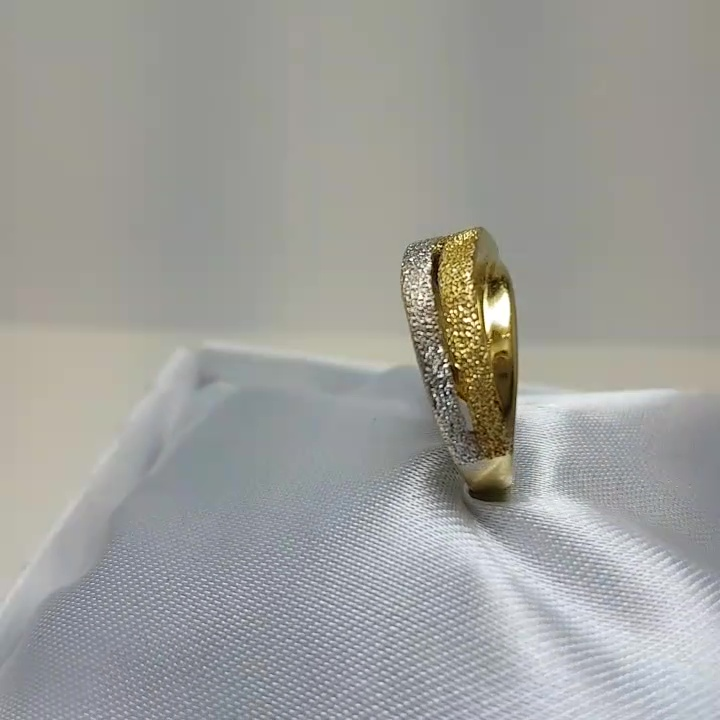Ring 5: (352, 203, 583, 501)
